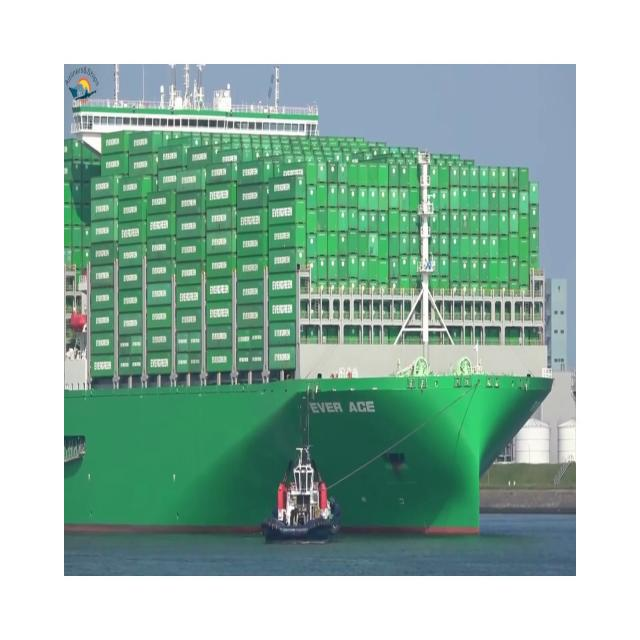OCR: (302, 390, 380, 428)
